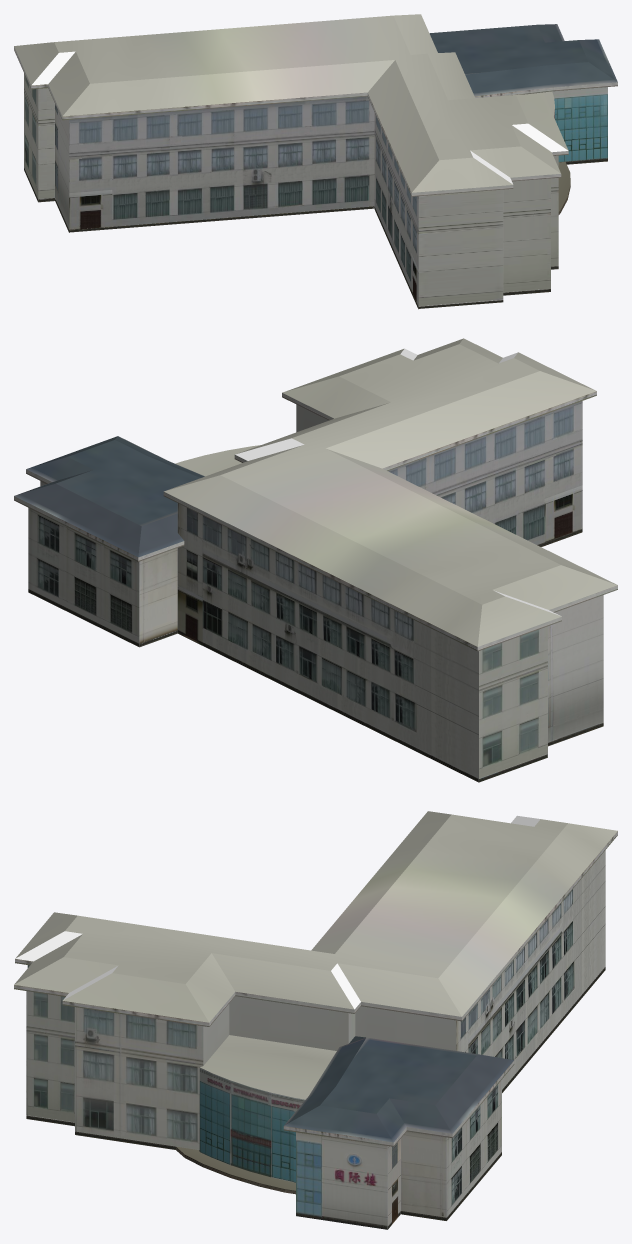
Rendered from gjl.gltf.
The picture shows the model from 3 angles, top to bottom: view 1: azimuth 30°, elevation 25°; view 2: azimuth 150°, elevation 25°; view 3: azimuth 270°, elevation 25°; orthographic projection. The views are drawn at different scales.
Visible parts, largest first — view 1: Mesh02#8; view 2: Mesh02#8; view 3: Mesh02#8.
Part boxes in pixels (x1,y1,x2,y2): Mesh02#8: (14,14,617,309); Mesh02#8: (14,338,617,782); Mesh02#8: (14,811,617,1229).
Size of the model in its own units: 0.0698 by 0.0175 by 0.0621.
4 materials, 3 textured.
